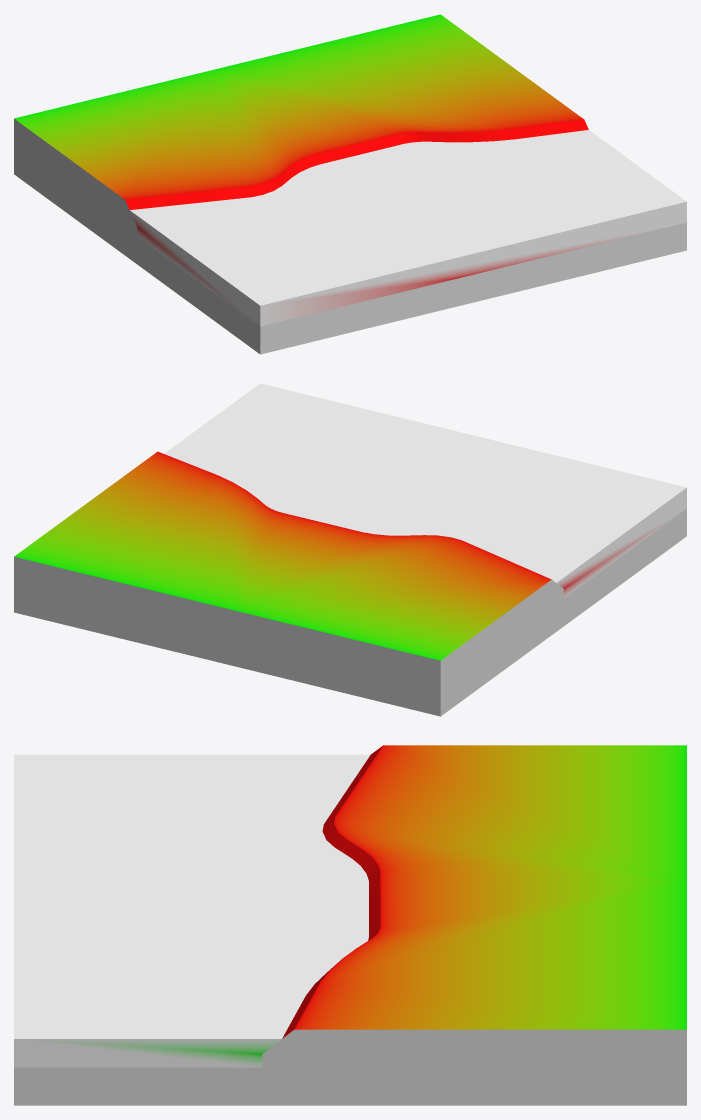
File: SM_Diaroma_Environment.fbx
The picture shows the model from 3 angles, top to bottom: view 1: azimuth 30°, elevation 25°; view 2: azimuth 150°, elevation 25°; view 3: azimuth 270°, elevation 25°; orthographic projection. The views are drawn at different scales.
Visible parts, largest first — view 1: Diaroma_Water, Diaroma_Ground, Diaroma_Ground_Sides; view 2: Diaroma_Water, Diaroma_Ground, Diaroma_Ground_Sides; view 3: Diaroma_Water, Diaroma_Ground, Diaroma_Ground_Sides.
Part boxes in pixels (bbox=[...]): Diaroma_Water: bbox=[130, 130, 686, 326]; Diaroma_Ground: bbox=[14, 14, 588, 209]; Diaroma_Ground_Sides: bbox=[14, 119, 686, 354]; Diaroma_Water: bbox=[164, 383, 686, 598]; Diaroma_Ground: bbox=[14, 451, 551, 660]; Diaroma_Ground_Sides: bbox=[14, 508, 686, 716]; Diaroma_Water: bbox=[14, 754, 370, 1067]; Diaroma_Ground: bbox=[282, 745, 686, 1038]; Diaroma_Ground_Sides: bbox=[14, 1029, 686, 1105].
Bounding box in the file's own units: 3200 × 400 × 3200.
